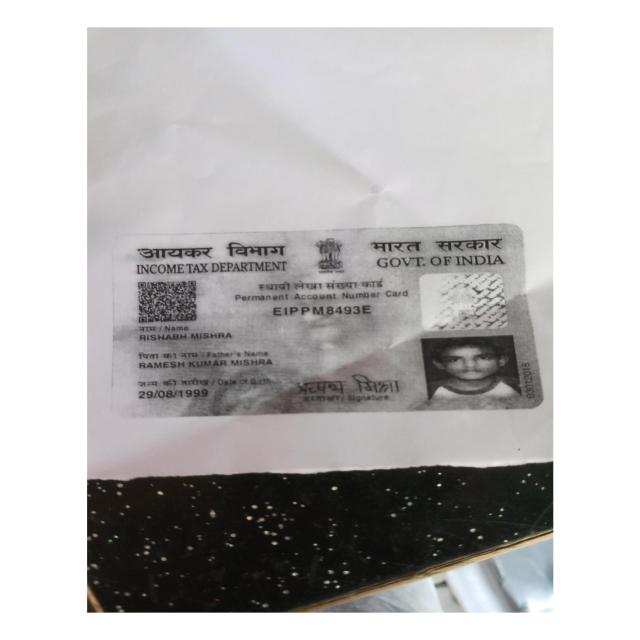pan_card: (120, 227, 546, 415)
